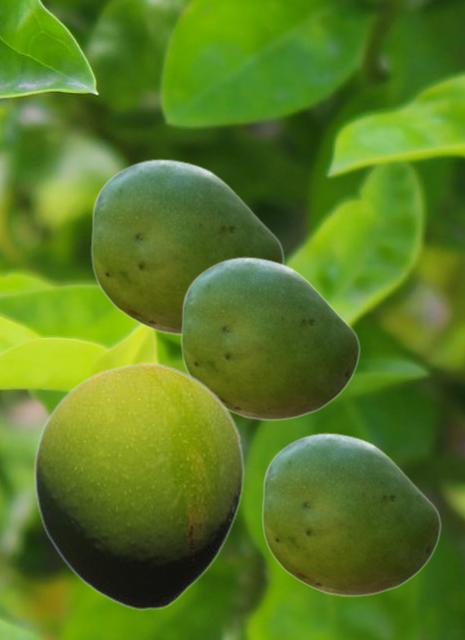green_mango: (33, 362, 244, 610), (90, 158, 283, 335), (180, 256, 359, 420), (261, 432, 440, 596)
